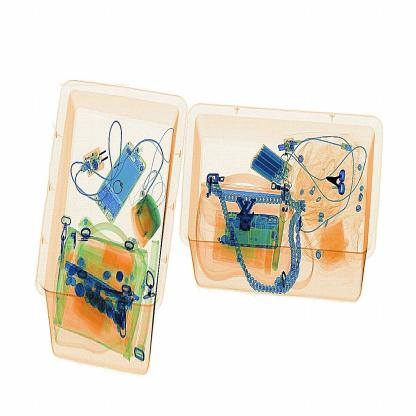gun: (323, 162, 357, 206)
